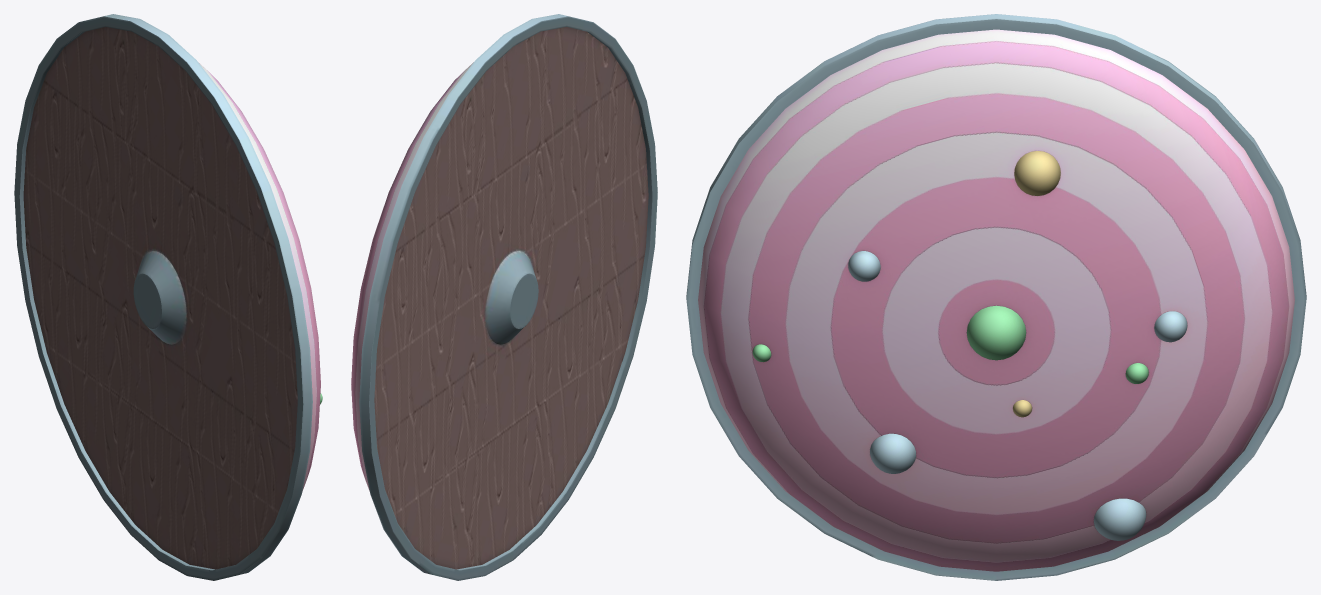
Rendered from candyShield.glb.
3 views of the same model, side by side, from view 1: azimuth 30°, elevation 25°; view 2: azimuth 150°, elevation 25°; view 3: azimuth 270°, elevation 25° (orthographic). The views are drawn at different scales.
Visible parts, largest first — view 1: Sphere; view 2: Sphere; view 3: Sphere.
Part boxes in pixels (x1=…): Sphere: x1=14, y1=14, x2=322, y2=580; Sphere: x1=351, y1=14, x2=657, y2=580; Sphere: x1=686, y1=14, x2=1306, y2=580.
Size of the model in its own units: 0.1685 by 0.8257 by 0.8257.
1 material, 1 textured.
